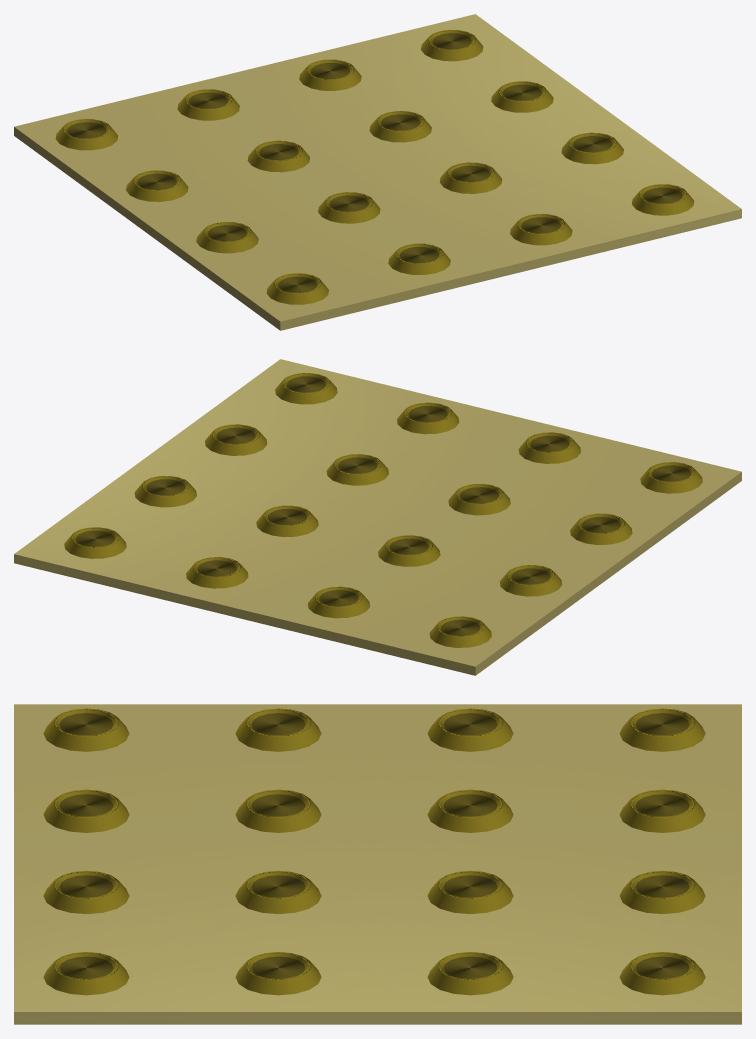
Rendered from Desert_Trap Plane.fbx.
3 renders of one model, top to bottom at view 1: azimuth 30°, elevation 25°; view 2: azimuth 150°, elevation 25°; view 3: azimuth 270°, elevation 25°, orthographic. The views are drawn at different scales.
Visible parts, largest first — view 1: Cube.007; view 2: Cube.007; view 3: Cube.007.
Part boxes in pixels (left/top/right/bottom): Cube.007: left=14, top=14, right=741, bottom=330; Cube.007: left=14, top=359, right=741, bottom=675; Cube.007: left=14, top=704, right=741, bottom=1024.
Bounding box in the file's own units: 78.74 × 2.78 × 78.74.
Materials: 1 (1 with a texture image).
